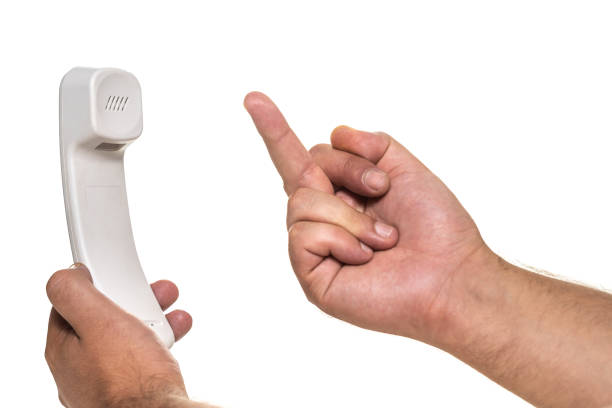insulting_gesture: (240, 86, 444, 338)
